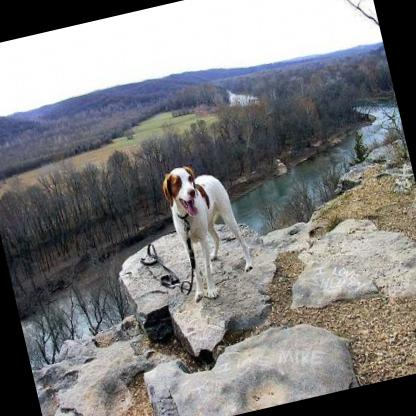Brittany_spaniel: (155, 152, 259, 306)
